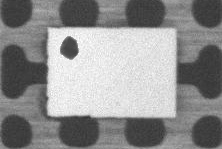DIE_INK: (86, 23, 121, 42)
